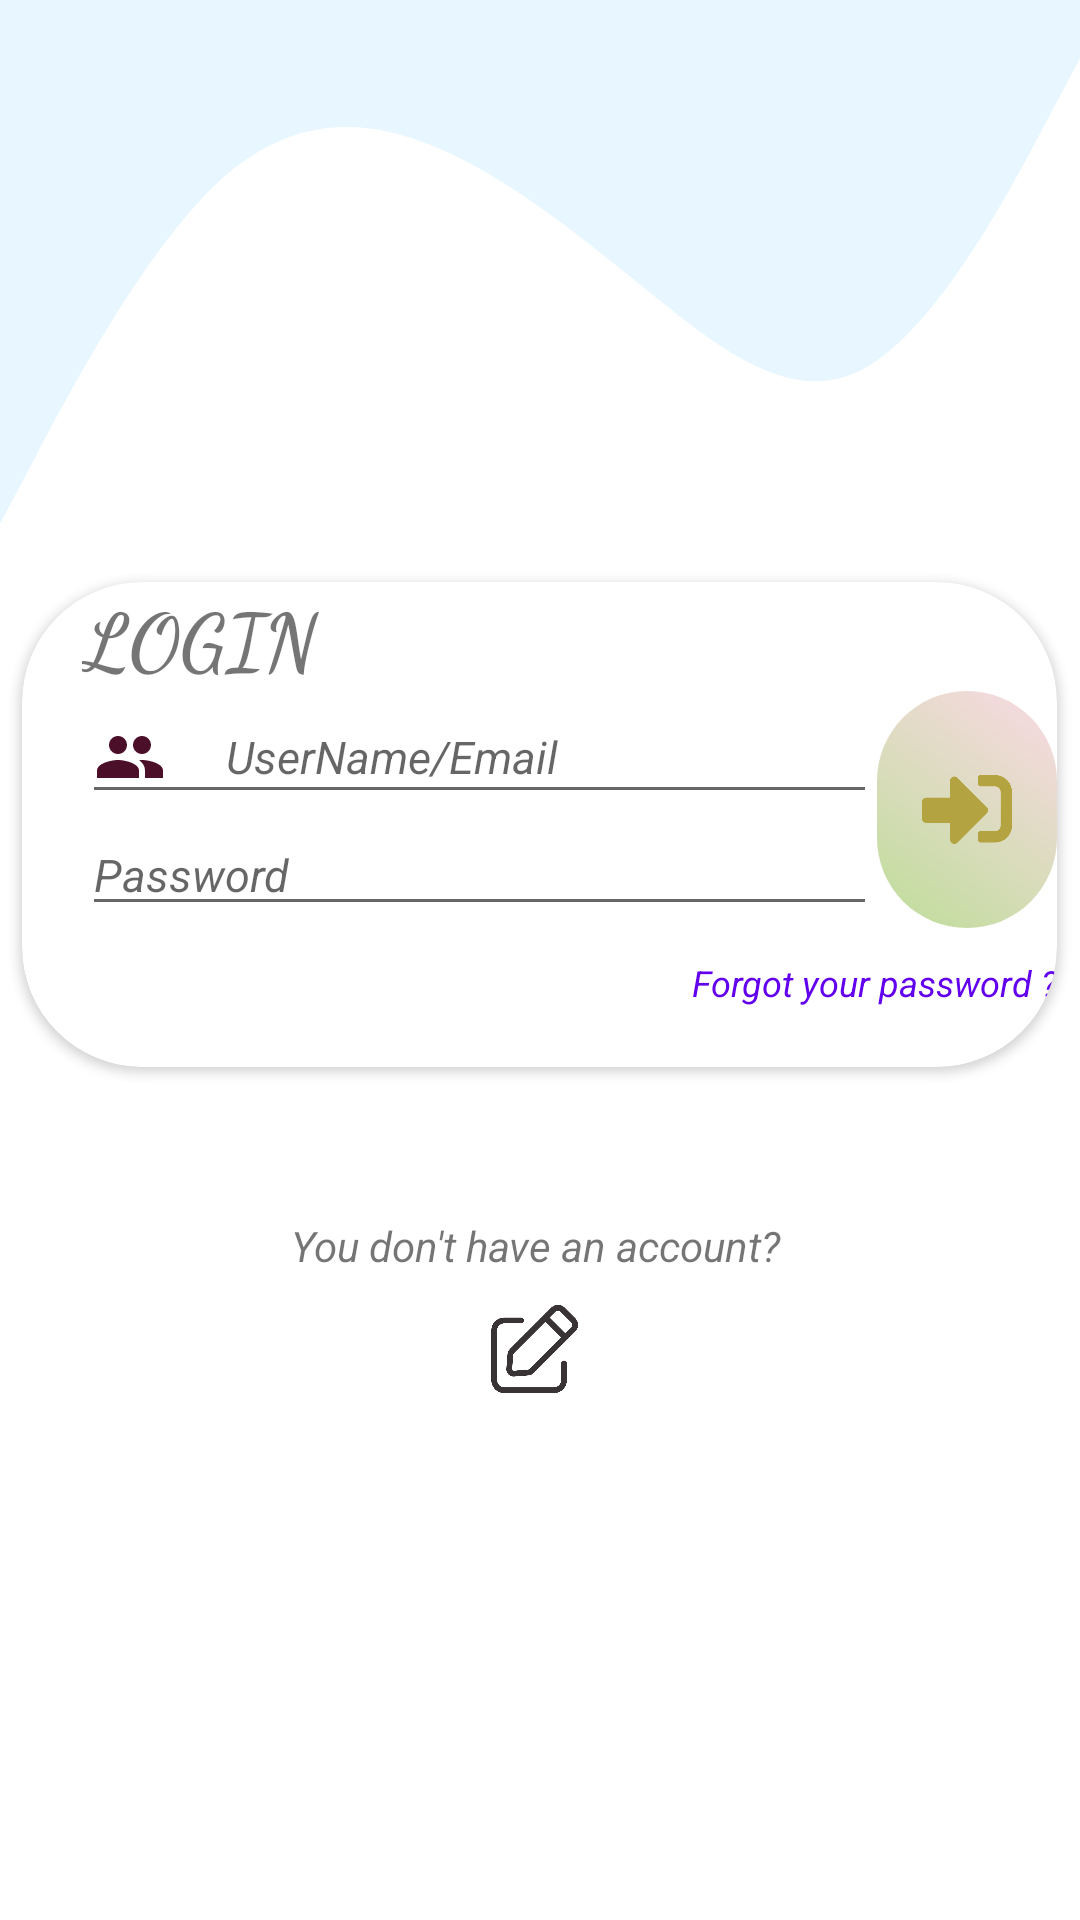

Screen size 1080 × 1920. Icon name, then its center in pixels as (x=x, y=y):
signin: (x=967, y=809)
